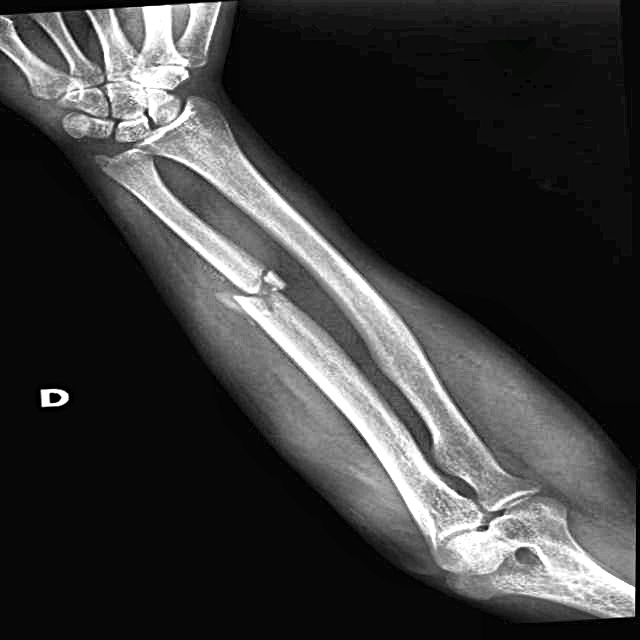Comminuted: (170, 256, 306, 333)
